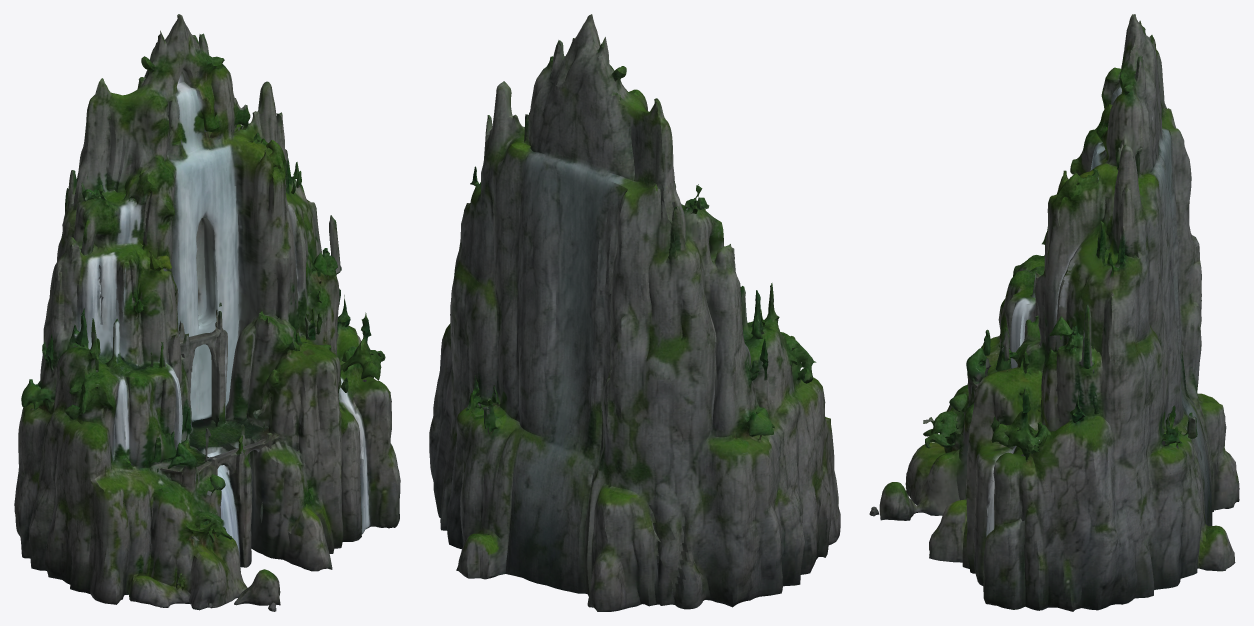
The model's file is veilfall_terraced_mountain.glb.
3 views of the same model, side by side, from view 1: azimuth 30°, elevation 25°; view 2: azimuth 150°, elevation 25°; view 3: azimuth 270°, elevation 25° (orthographic). The views are drawn at different scales.
Parts seen in each view (by area): view 1: Mesh_0; view 2: Mesh_0; view 3: Mesh_0.
Boxes of the visible parts, box(x1,y1,x2,y2) form: Mesh_0: box(14, 14, 400, 611); Mesh_0: box(429, 14, 840, 611); Mesh_0: box(869, 14, 1239, 611).
Bounding box in the file's own units: 1.33 × 1.89 × 1.23.
Materials: 1 (1 with a texture image).
